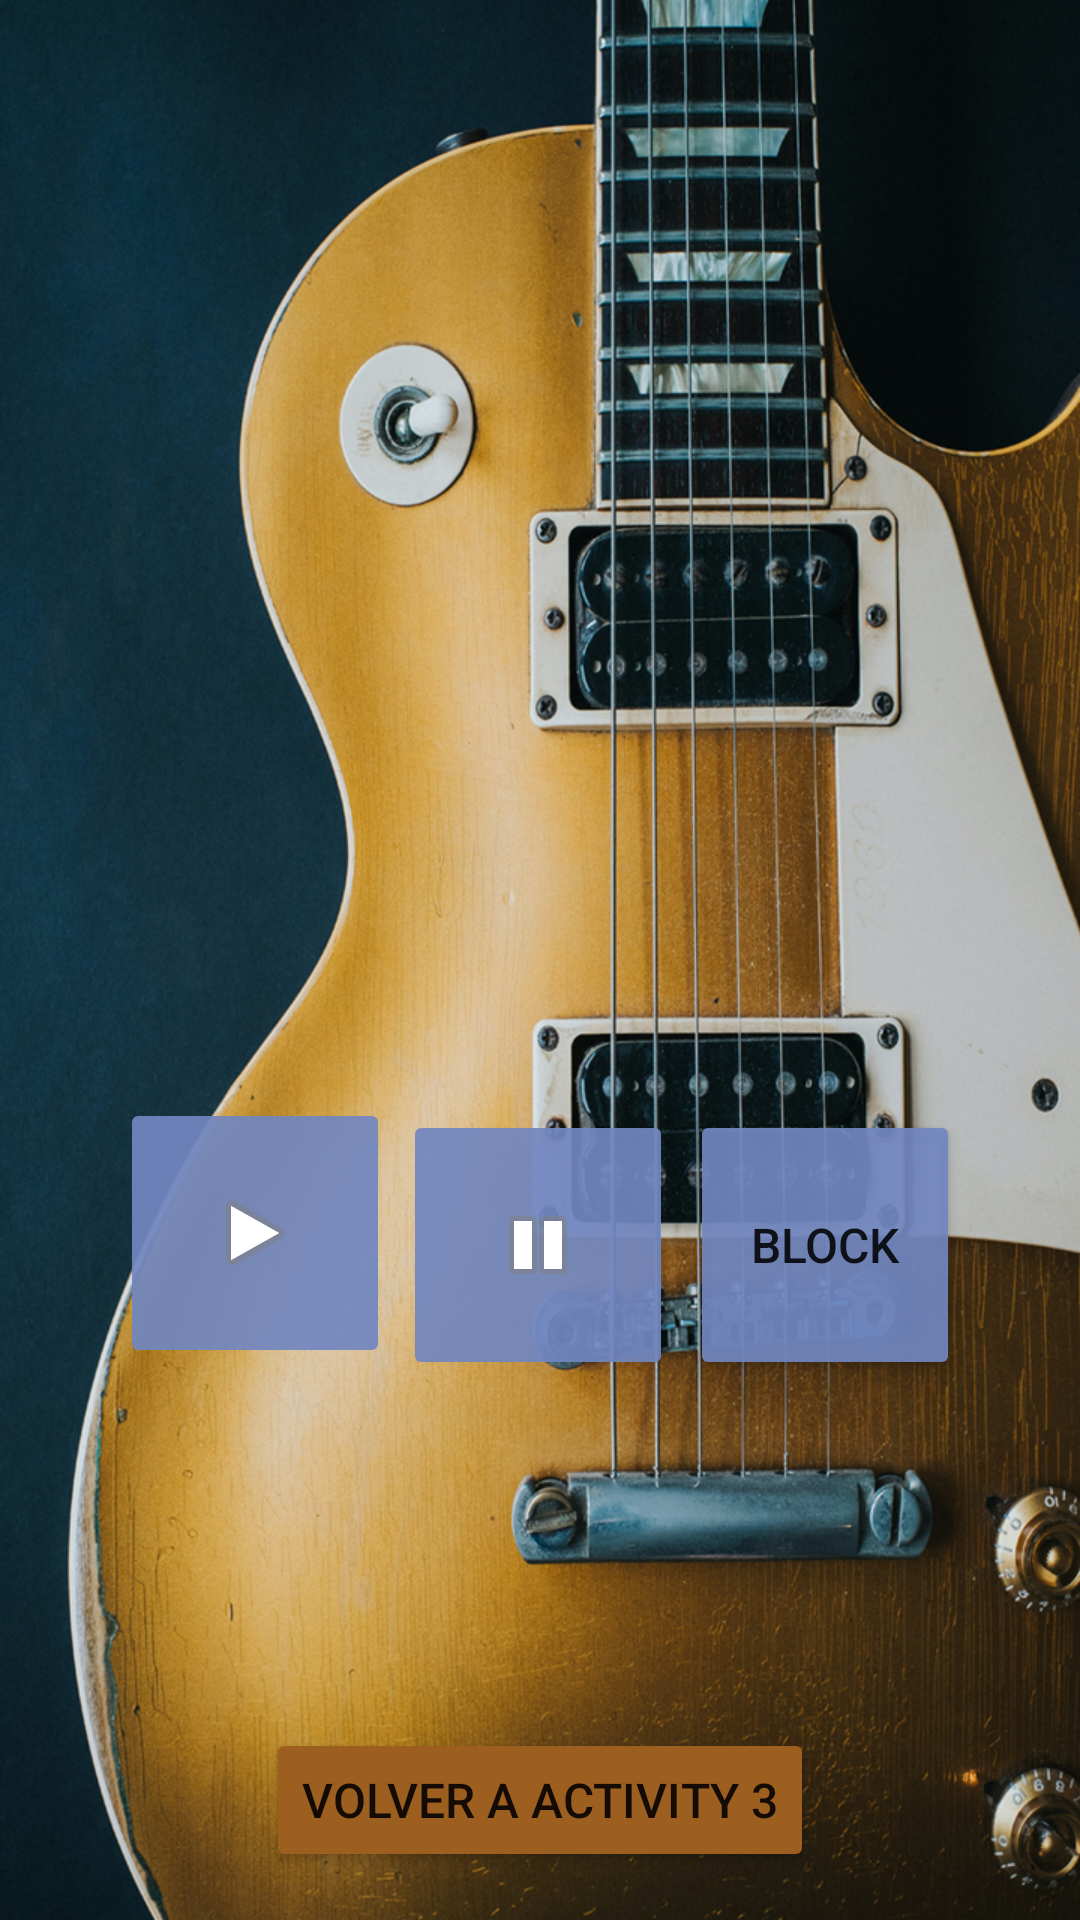

Named icons in this screenshot (1080 × 1920) and their centers, (x,y):
pause: (538,1245)
play: (255,1233)
